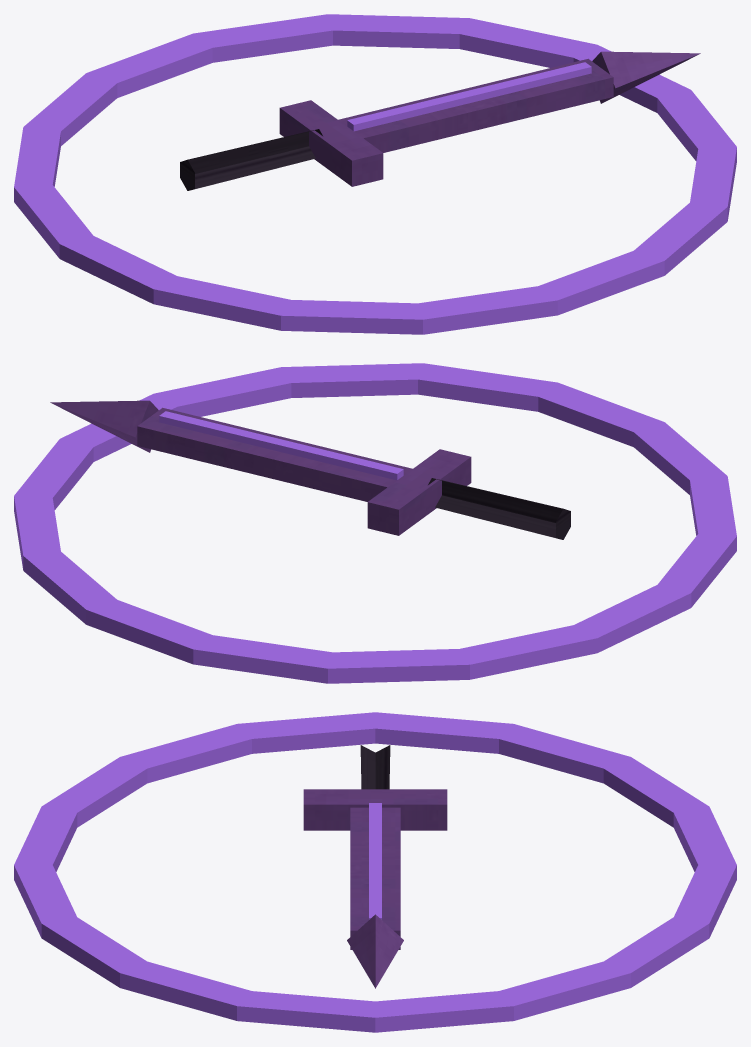
File: loot_dagger_g2.glb
3 renders of one model, top to bottom at view 1: azimuth 30°, elevation 25°; view 2: azimuth 150°, elevation 25°; view 3: azimuth 270°, elevation 25°, orthographic.
Parts seen in each view (by area): view 1: loot_dagger_g2; view 2: loot_dagger_g2; view 3: loot_dagger_g2.
Boxes of the visible parts, bbox=[...] form: loot_dagger_g2: bbox=[14, 14, 736, 334]; loot_dagger_g2: bbox=[14, 363, 736, 683]; loot_dagger_g2: bbox=[14, 712, 736, 1032].
Size of the model in its own units: 1.02 by 0.115 by 1.01.
3 materials, 3 textured.
